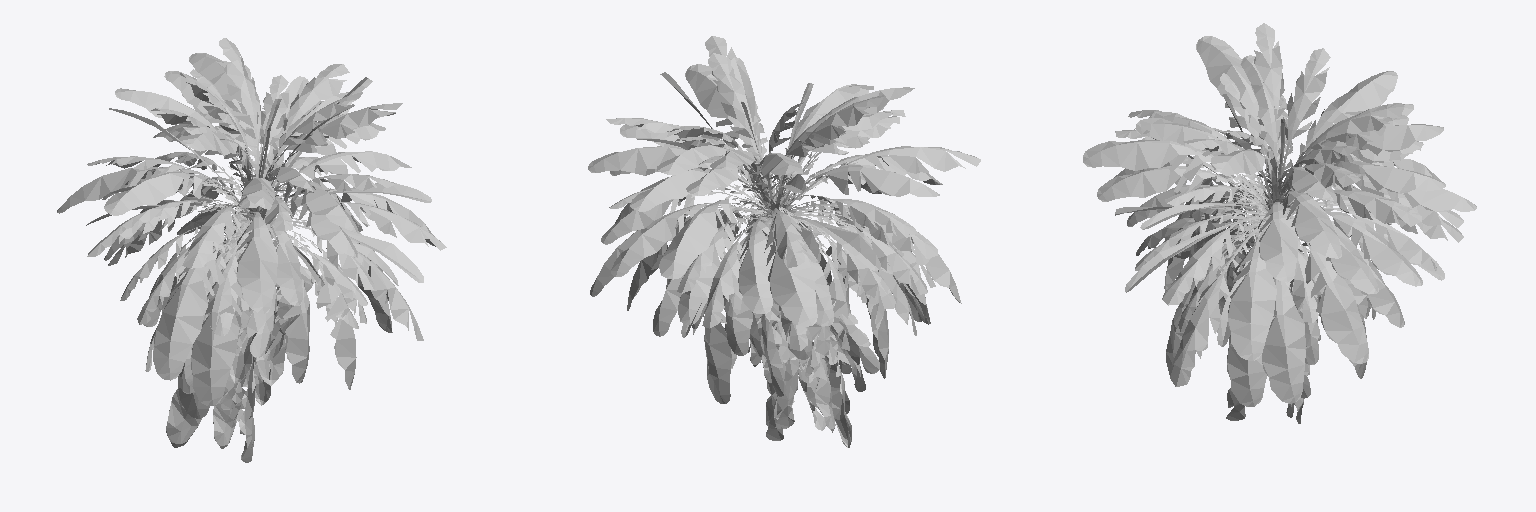
The model's file is leaf.obj.
3 renders of one model, left to right at view 1: azimuth 30°, elevation 25°; view 2: azimuth 150°, elevation 25°; view 3: azimuth 270°, elevation 25°, orthographic.
Visible parts, largest first — view 1: Palm_Tree_M_01_L; view 2: Palm_Tree_M_01_L; view 3: Palm_Tree_M_01_L.
Boxes of the visible parts, x1,y1,x2,y2 form: Palm_Tree_M_01_L: [57, 38, 446, 462]; Palm_Tree_M_01_L: [588, 36, 980, 447]; Palm_Tree_M_01_L: [1083, 23, 1476, 423].
Size of the model in its own units: 7.93 by 8.13 by 8.01.